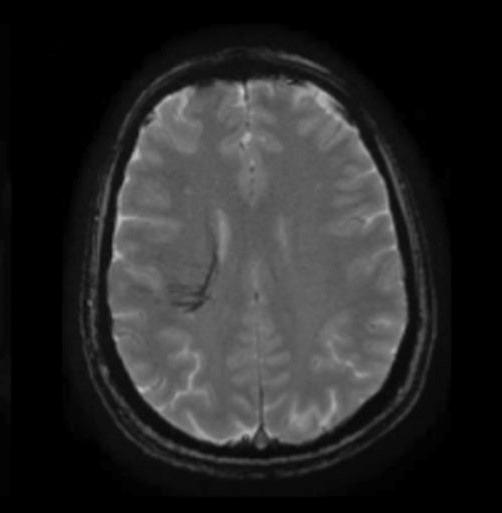Normal_Brain: (69, 20, 502, 513)
